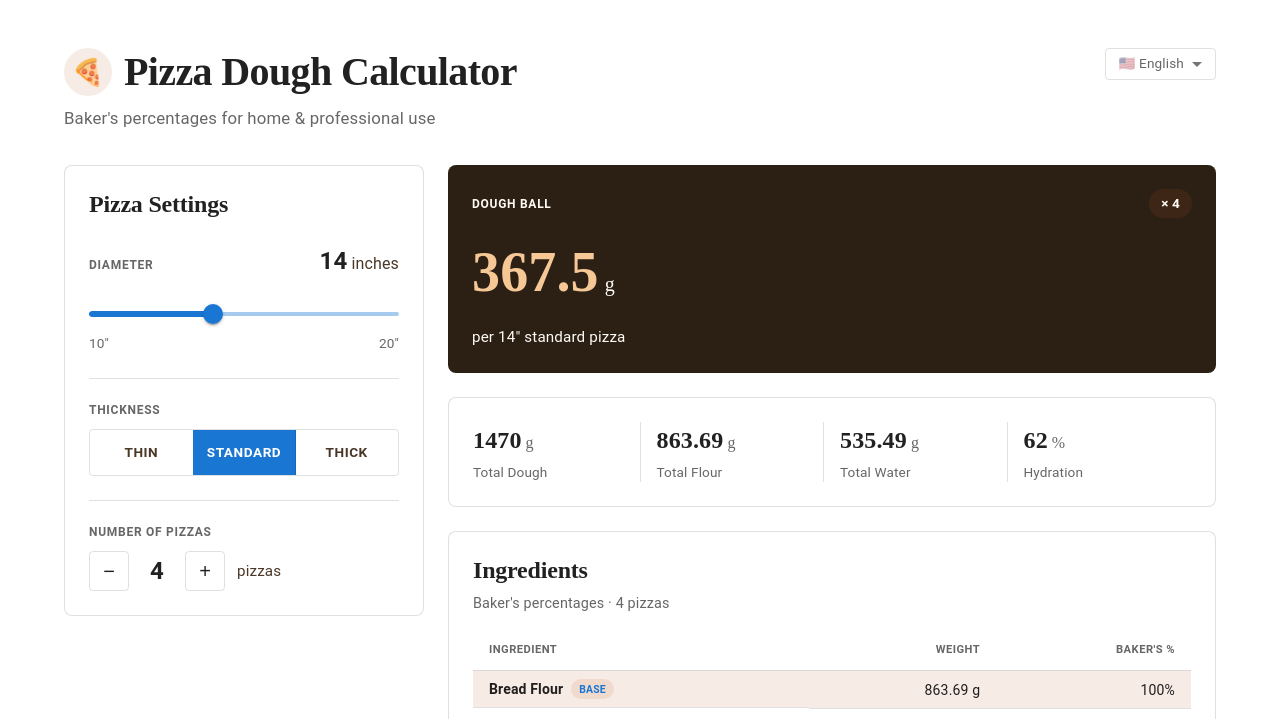
Scenario: <App /> › recalculates the Dough Ball, Total Dough, Total Flour, and Total Water when the thickness changes, without altering baker's percentages or hydration
The width and height of the screenshot is (1280, 719).
Check: the text "367.5" is shown, box [472, 230, 599, 314]
Click the button "Thick".
click(347, 452)  # box [295, 430, 398, 475]
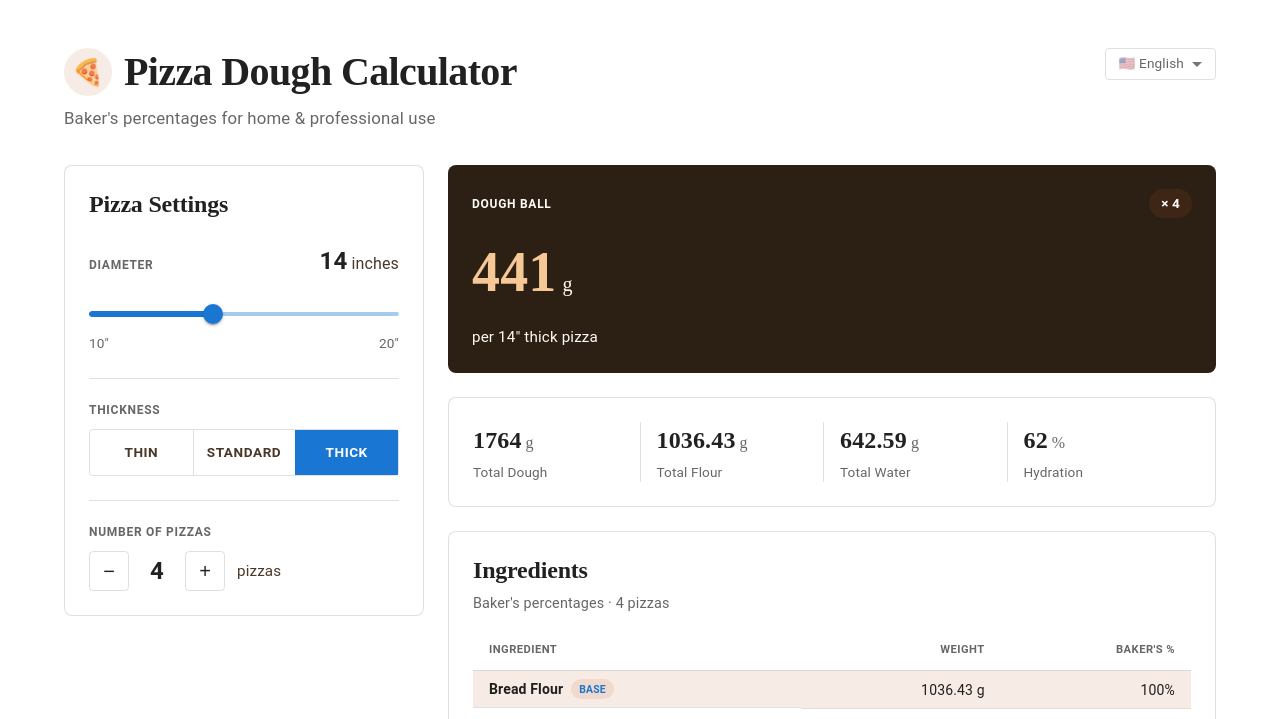
Check: the text "441" is shown, box [472, 230, 556, 314]
Check: the text "per 14\" thick pizza" is shown, box [472, 328, 598, 346]
Check: the text "1764" is shown, box [473, 427, 522, 453]
